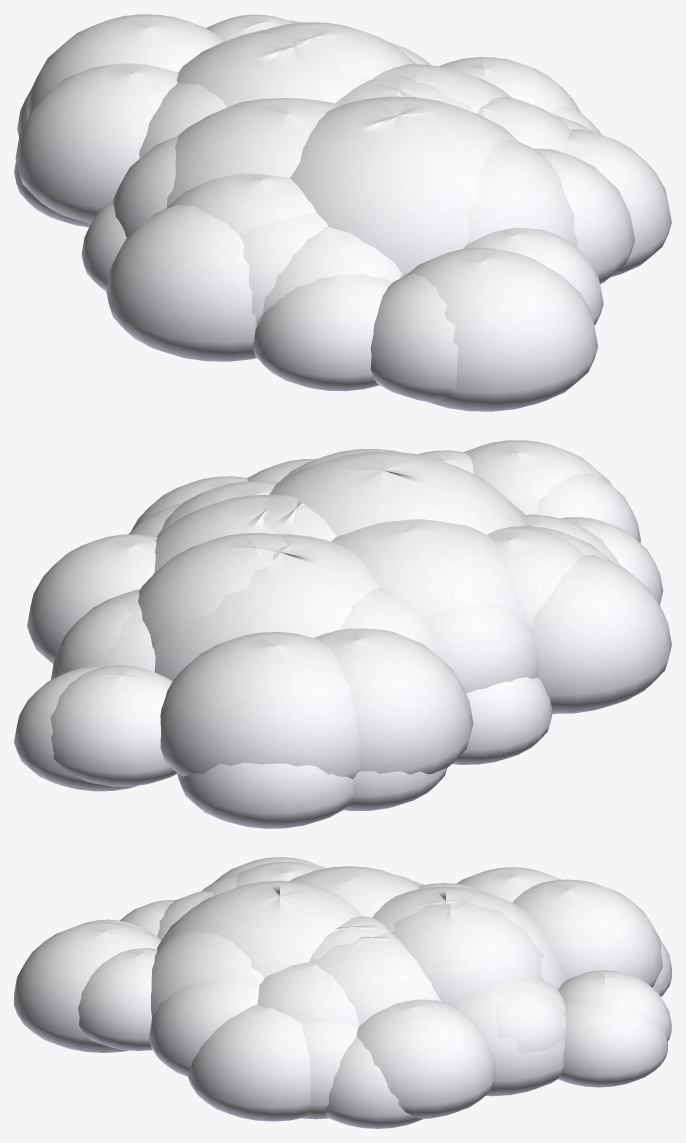
File: citadel_party_cloud.glb
The picture shows the model from 3 angles, top to bottom: view 1: azimuth 30°, elevation 25°; view 2: azimuth 150°, elevation 25°; view 3: azimuth 270°, elevation 25°; orthographic projection. The views are drawn at different scales.
Visible parts, largest first — view 1: Cloud_Puff; view 2: Cloud_Puff; view 3: Cloud_Puff.
Part boxes in pixels (left/top/right/bottom): Cloud_Puff: left=14, top=14, right=671, bottom=411; Cloud_Puff: left=14, top=440, right=671, bottom=828; Cloud_Puff: left=14, top=857, right=671, bottom=1128.
Size of the model in its own units: 3.6 by 1.27 by 4.76.
1 material, 1 textured.
